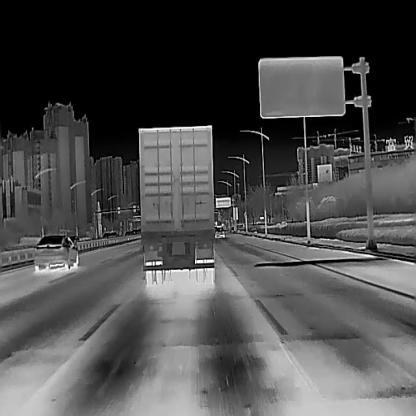car: (138, 124, 214, 283), (33, 233, 79, 269), (214, 225, 225, 237), (108, 231, 120, 237)
